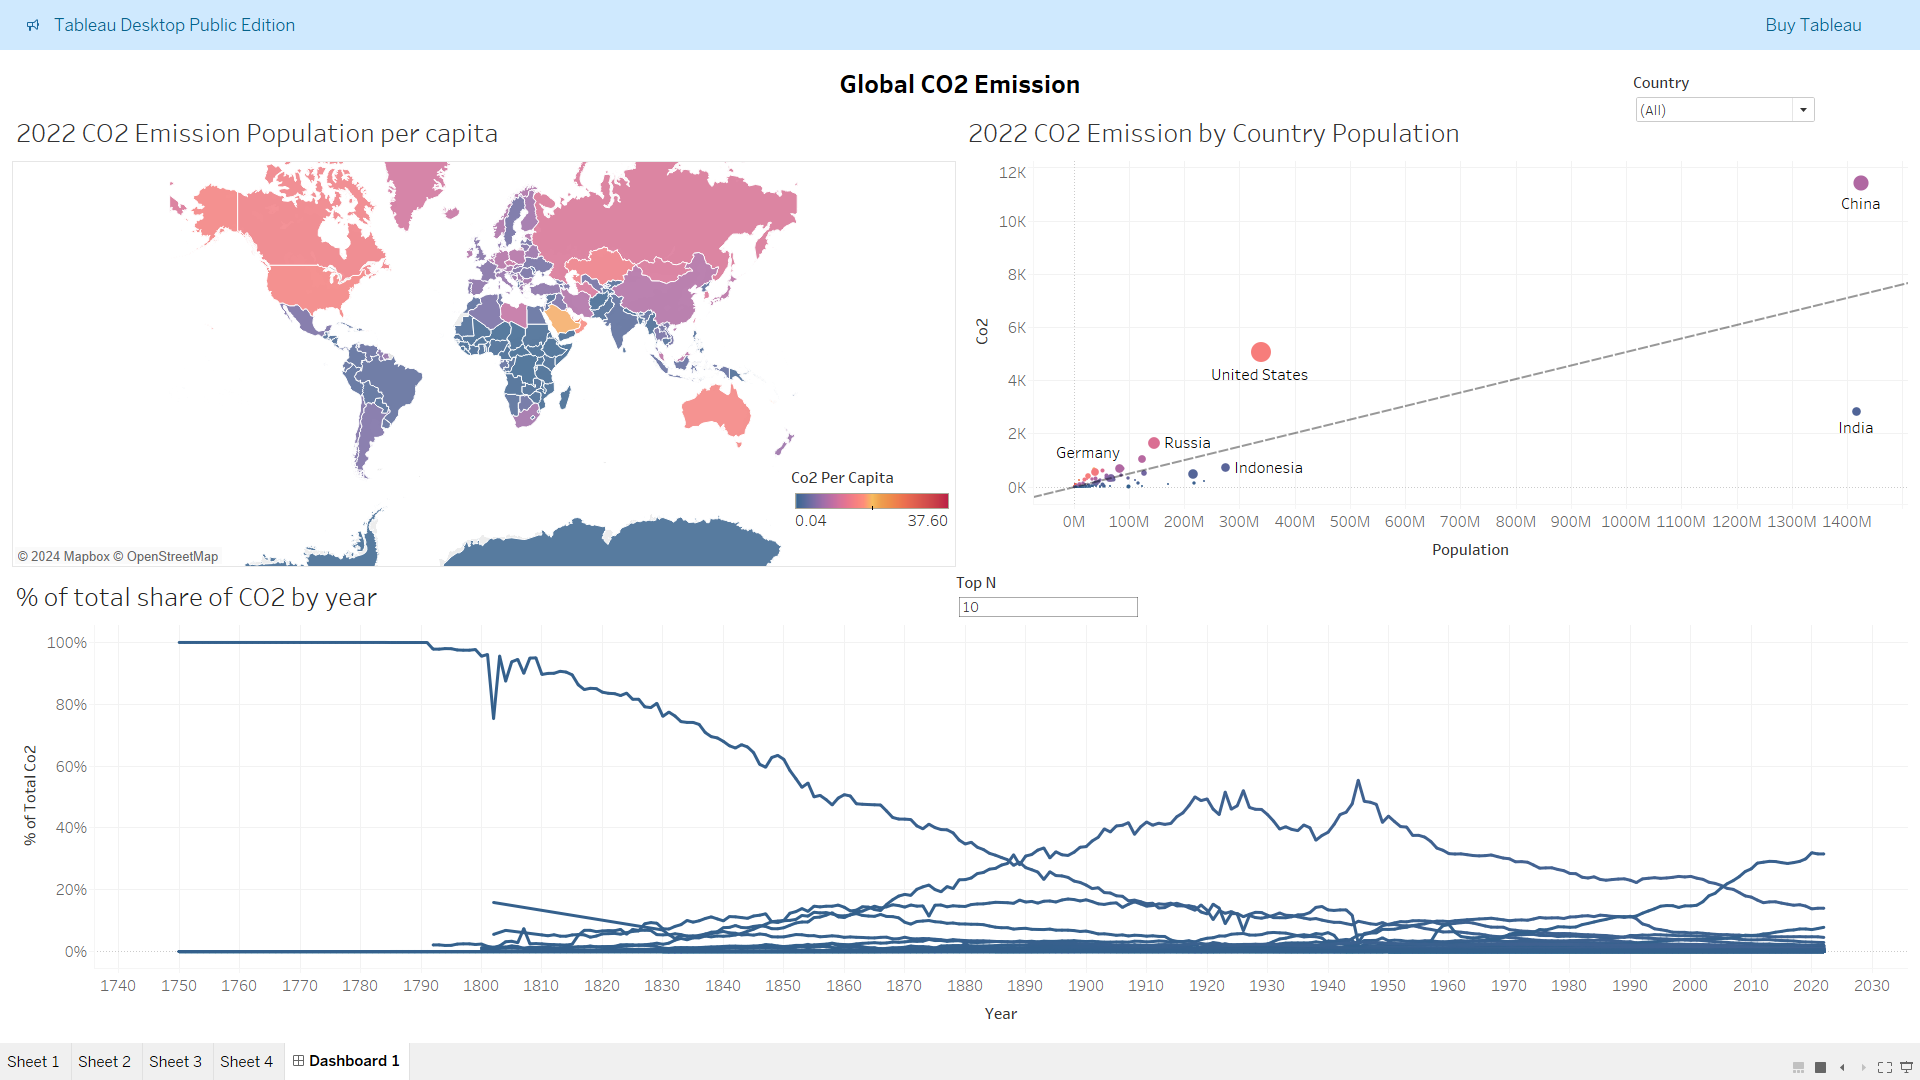

The page's visual inventory and layout, read from the dashboard file:
{"tool":"tableau","page":{"name":"Dashboard 1","canvas":[1000,1000],"units":"permille","ordinal":0},"visuals":[{"type":"text","box":[4.8,9.3,990.4,48.8]},{"type":"filter","title":"Sheet 3","param":"[federated.1wmn5941pqxgq01dq9mla0occ66v].[none:country:nk]","box":[850.3,22.1,96.2,61.6]},{"type":"worksheet","title":"Sheet 3","mark":"Automatic","box":[4.8,58.1,495.2,466.3]},{"type":"worksheet","title":"Sheet 4","mark":"Circle","rows":["co2"],"cols":["population"],"box":[500,58.1,495.2,466.3]},{"type":"legend","title":"Sheet 3","param":"[federated.1wmn5941pqxgq01dq9mla0occ66v].[sum:co2_per_capita:qk]","box":[411.9,420.4,84.2,96.4]},{"type":"worksheet","title":"Sheet 2","mark":"Automatic","cols":["year"],"box":[4.8,524.4,990.4,466.3]},{"type":"parameter","param":"[Parameters].[Parameter 1]","box":[497.9,526.1,96.2,53.4]}]}

Visuals, with their boxes on the dashboard's canvas, which has no fixed pixel size, in thousandths of its width and height (x1, y1, x2, y2). These are canvas units, not pixel positions in the 1920x1080 screenshot, which may show the page scaled, cropped or inside an application window:
text: 5 9 995 58
"Sheet 3" filter: 850 22 946 84
"Sheet 3" worksheet: 5 58 500 524
"Sheet 4" worksheet (Circle marks): 500 58 995 524
"Sheet 3" legend: 412 420 496 517
"Sheet 2" worksheet: 5 524 995 991
parameter: 498 526 594 580
